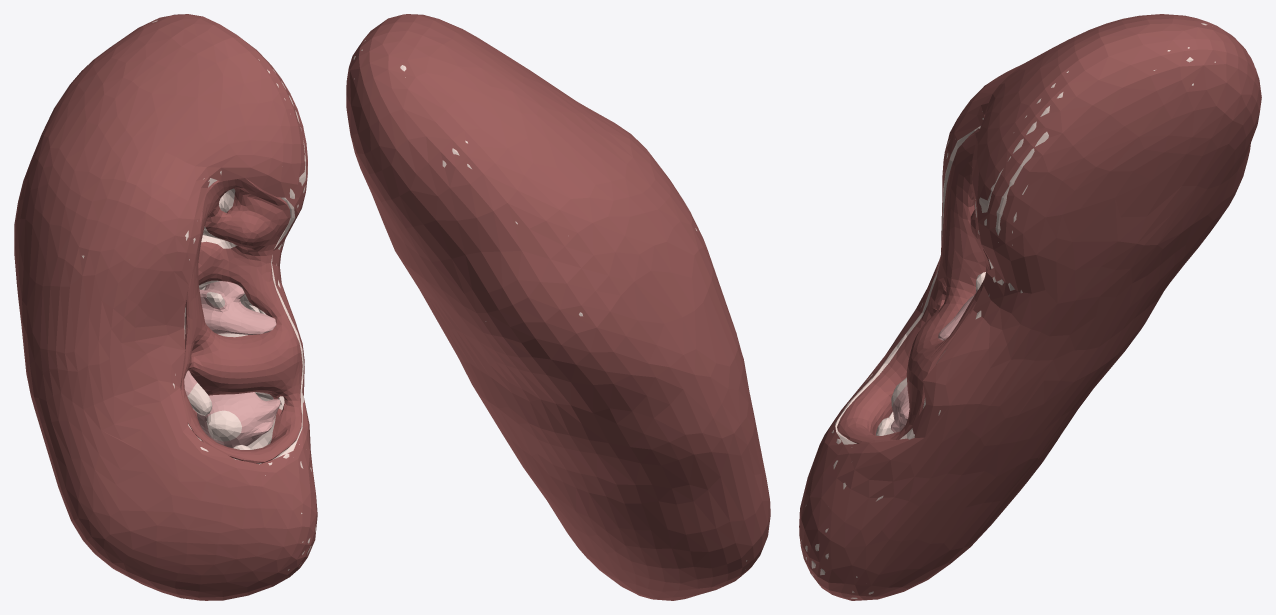
File: VH_M_Kidney_R_0.4.glb
3 renders of one model, left to right at view 1: azimuth 30°, elevation 25°; view 2: azimuth 150°, elevation 25°; view 3: azimuth 270°, elevation 25°, orthographic. The views are drawn at different scales.
Parts seen in each view (by area): view 1: VH_M_kidney_capsule_R, VH_M_hilum_of_kidney_R, VH_M_renal_pyramid_f, VH_M_renal_pyramid_h, VH_M_outer_cortex_of_kidney_R, VH_M_renal_column_R, VH_M_renal_papilla_R_h, VH_M_renal_papilla_R_g; view 2: VH_M_kidney_capsule_R; view 3: VH_M_kidney_capsule_R, VH_M_hilum_of_kidney_R, VH_M_outer_cortex_of_kidney_R.
Boxes of the visible parts, x1=… form: VH_M_kidney_capsule_R: x1=14, y1=14, x2=317, y2=600; VH_M_hilum_of_kidney_R: x1=180, y1=178, x2=302, y2=463; VH_M_renal_pyramid_f: x1=199, y1=281, x2=276, y2=334; VH_M_renal_pyramid_h: x1=197, y1=392, x2=280, y2=447; VH_M_outer_cortex_of_kidney_R: x1=82, y1=20, x2=315, y2=570; VH_M_renal_column_R: x1=199, y1=188, x2=275, y2=449; VH_M_renal_papilla_R_h: x1=206, y1=410, x2=241, y2=441; VH_M_renal_papilla_R_g: x1=187, y1=382, x2=212, y2=415; VH_M_kidney_capsule_R: x1=346, y1=14, x2=770, y2=600; VH_M_kidney_capsule_R: x1=799, y1=14, x2=1261, y2=600; VH_M_hilum_of_kidney_R: x1=837, y1=128, x2=991, y2=443; VH_M_outer_cortex_of_kidney_R: x1=801, y1=23, x2=1215, y2=598.
Size of the model in its own units: 0.0655 by 0.1125 by 0.0764.
